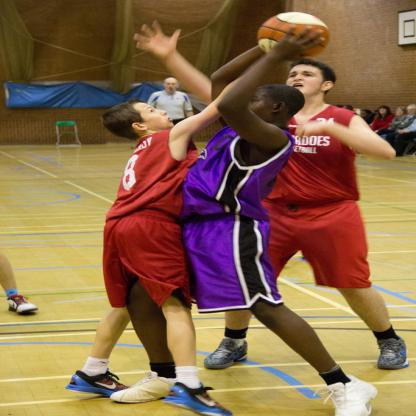Ball: (257, 12, 331, 61)
